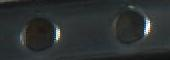joints: (109, 4, 152, 45), (18, 13, 61, 53)
